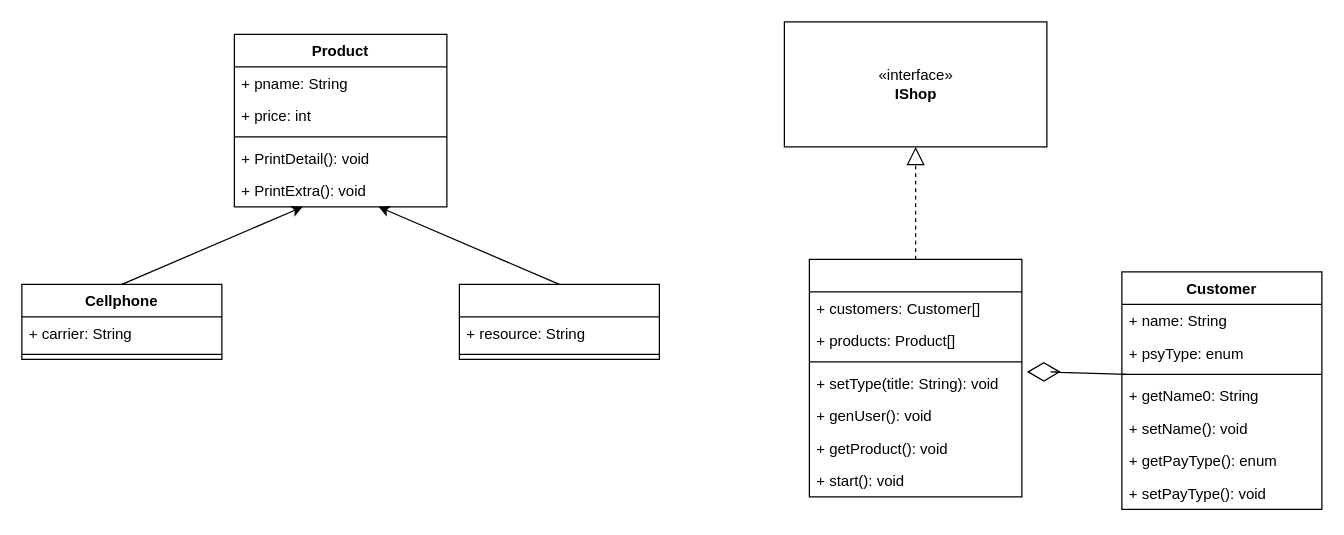
Image size: 1344x535. Some labels were removed from this diagram. The box of each missing label's shape, as (x1, y1, x2, y2) in pixels:
MyShop: (808, 258, 1022, 497)
SmartTv: (458, 283, 659, 359)
